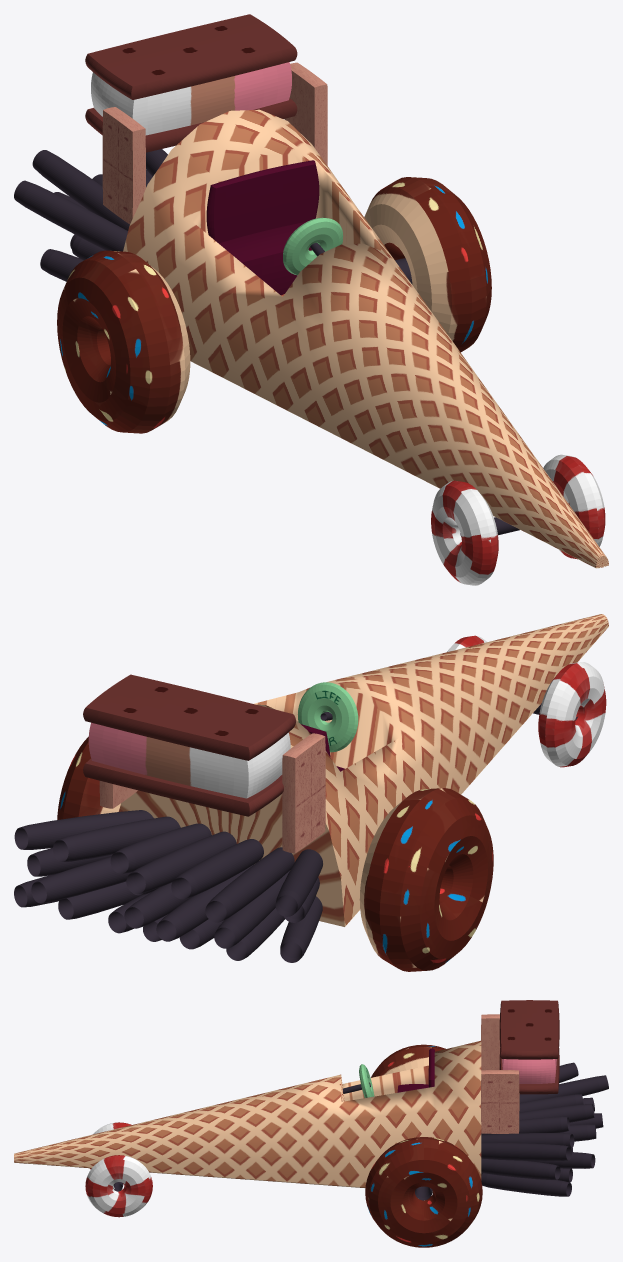
Rendered from CandyCarFinal.fbx.
3 views of the same model, one above another, from view 1: azimuth 30°, elevation 25°; view 2: azimuth 150°, elevation 25°; view 3: azimuth 270°, elevation 25° (orthographic). The views are drawn at different scales.
Parts seen in each view (by area): view 1: Cone001, BL Wheel, BR Wheel, Cube.002, Torus.001, Cube.001, Cube.005, TL Wheel, Cube.004, TR Wheel, Cube.006, Cube.003 (+2 smaller); view 2: Cone001, Torus.001, BL Wheel, Cube.002, Cube.001, TL Wheel, Cube.004, Cube, Torus.026, BR Wheel, Cube.003; view 3: Cone001, Torus.001, BR Wheel, Cube.002, TR Wheel, Cube.003, BL Wheel, Cube.001, Cube.004, Cube, Torus.026.
Part boxes in pixels (left/top/right/bottom): Cone001: left=123, top=109, right=608, bottom=568; BL Wheel: left=57, top=250, right=190, bottom=433; BR Wheel: left=364, top=177, right=491, bottom=352; Cube.002: left=85, top=14, right=297, bottom=99; Torus.001: left=14, top=149, right=167, bottom=281; Cube.001: left=91, top=62, right=291, bottom=135; Cube.005: left=206, top=160, right=319, bottom=243; TL Wheel: left=431, top=480, right=498, bottom=585; Cube.004: left=102, top=107, right=145, bottom=224; TR Wheel: left=543, top=454, right=605, bottom=559; Cube.006: left=219, top=221, right=311, bottom=295; Cube.003: left=284, top=62, right=327, bottom=165; Cone001: left=118, top=614, right=608, bottom=926; Torus.001: left=14, top=810, right=322, bottom=962; BL Wheel: left=359, top=788, right=493, bottom=971; Cube.002: left=83, top=674, right=295, bottom=760; Cube.001: left=88, top=722, right=290, bottom=798; TL Wheel: left=538, top=662, right=606, bottom=767; Cube.004: left=282, top=733, right=325, bottom=853; Cube: left=83, top=758, right=283, bottom=816; Torus.026: left=297, top=682, right=358, bottom=752; BR Wheel: left=57, top=737, right=120, bottom=819; Cube.003: left=99, top=781, right=137, bottom=808; Cone001: left=14, top=1040, right=481, bottom=1192; Torus.001: left=481, top=1062, right=608, bottom=1196; BR Wheel: left=365, top=1137, right=482, bottom=1247; Cube.002: left=499, top=1000, right=559, bottom=1059; TR Wheel: left=85, top=1155, right=152, bottom=1217; Cube.003: left=481, top=1070, right=519, bottom=1133; BL Wheel: left=371, top=1044, right=445, bottom=1077; Cube.001: left=502, top=1059, right=556, bottom=1083; Cube.004: left=481, top=1014, right=500, bottom=1070; Cube: left=499, top=1048, right=559, bottom=1094; Torus.026: left=359, top=1064, right=374, bottom=1097.
Size of the model in its own units: 226 by 163 by 501.
Materials: 18 (18 with a texture image).
